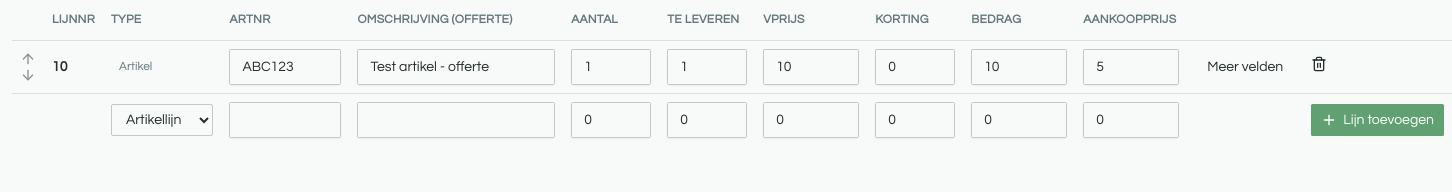
OfferteLijnenEditor - artikel lookup › persisted mode, failed commit: shows the error and keeps the picked value
The width and height of the screenshot is (1452, 192).
Replace the text in the field named "artnr lijn" with "LED" at (285, 66), box [229, 48, 341, 84]
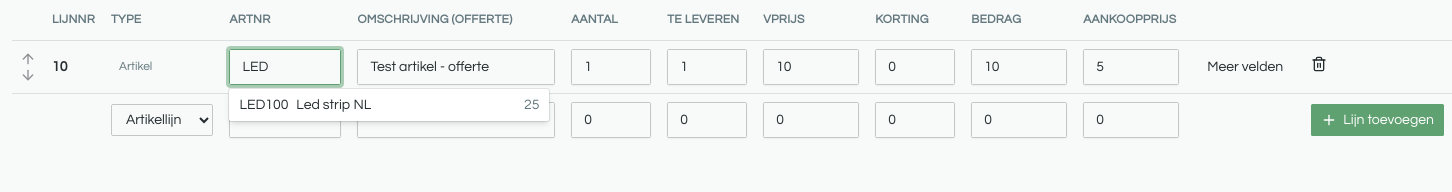
Click the option "LED100 Led strip NL 25" at (264, 104), box [229, 88, 549, 120]
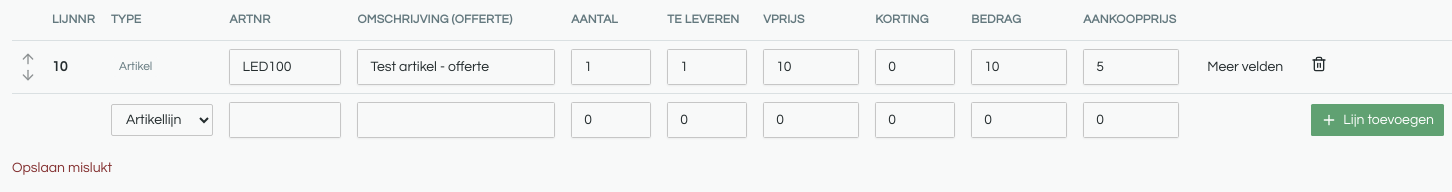
Now the text "Opslaan mislukt" is shown, box [12, 160, 112, 174]
Now the field named "artnr lijn" holds "LED100", box [229, 48, 341, 84]
